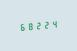eight: (26, 21, 33, 31)
four: (50, 18, 57, 29)
six: (18, 21, 25, 32)
two: (42, 19, 49, 30), (34, 20, 41, 30)
